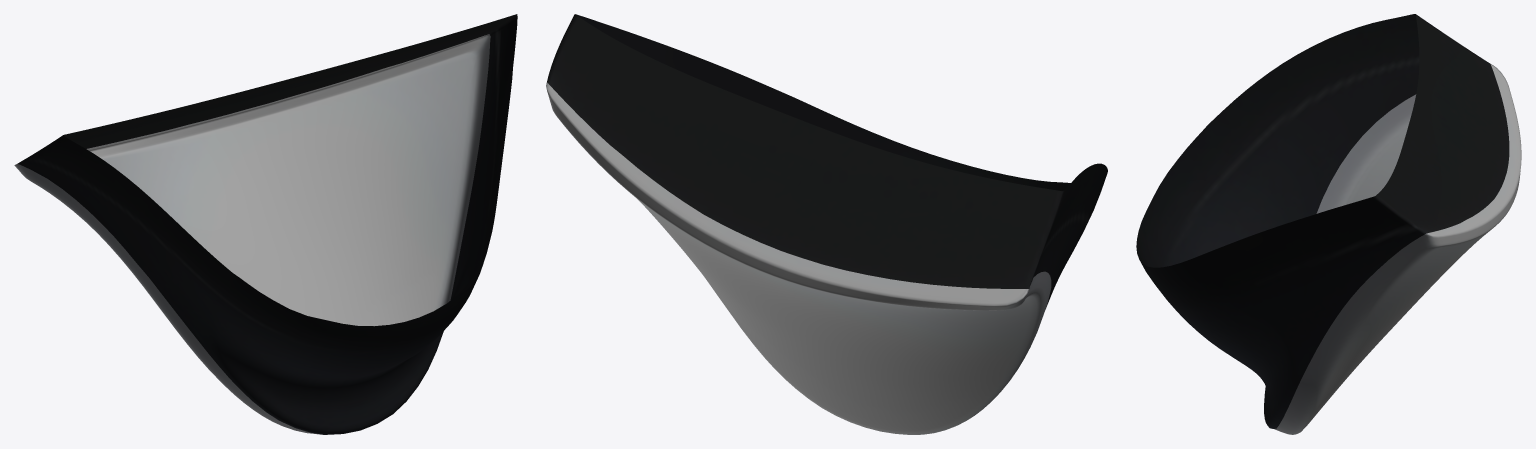
Rendered from playstation_vr2_sense_left_l2.obj.
3 renders of one model, left to right at view 1: azimuth 30°, elevation 25°; view 2: azimuth 150°, elevation 25°; view 3: azimuth 270°, elevation 25°, orthographic. The views are drawn at different scales.
Visible parts, largest first — view 1: mesh_L2_button_L; view 2: mesh_L2_button_L; view 3: mesh_L2_button_L.
Boxes of the visible parts, box(x1,y1,x2,y2) form: mesh_L2_button_L: box(14, 14, 517, 434); mesh_L2_button_L: box(546, 14, 1107, 434); mesh_L2_button_L: box(1136, 14, 1521, 434).
Size of the model in its own units: 0.0335 by 0.0239 by 0.0251.
1 material, 1 textured.
